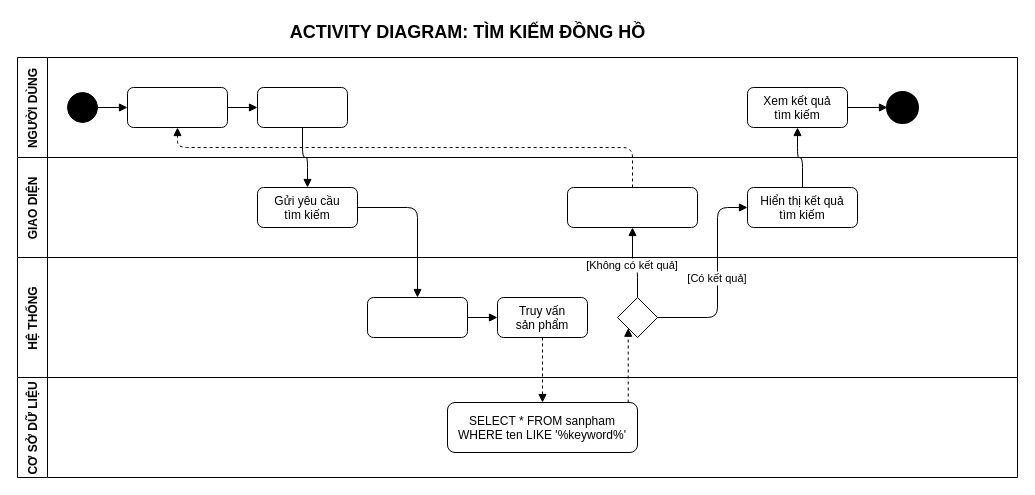
The diagram is 1035 pixels wide and 495 high, and some of its shapes have lost their labels. Each missing label, with the centre of its shape:
Hiển thị thông báo không tìm thấy: (632,207)
Nhấn nút Tìm kiếm: (302,107)
Nhập từ khóa tìm kiếm: (177,107)
Xử lý từ khóa tìm kiếm: (417,317)
